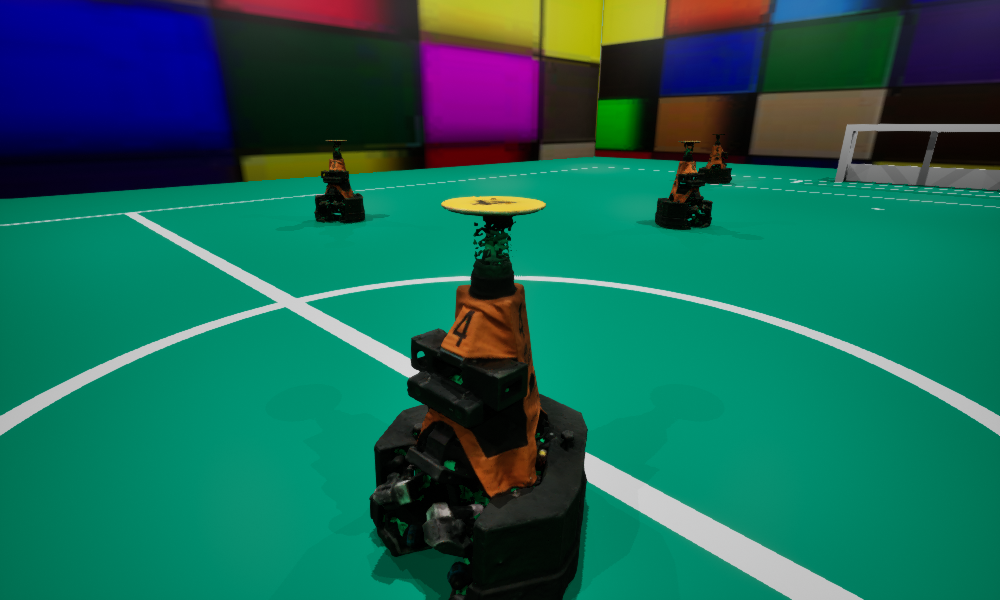0 orange robot TechUnited: (369, 196, 587, 599), (655, 141, 712, 229), (314, 140, 364, 221), (698, 134, 731, 183)
